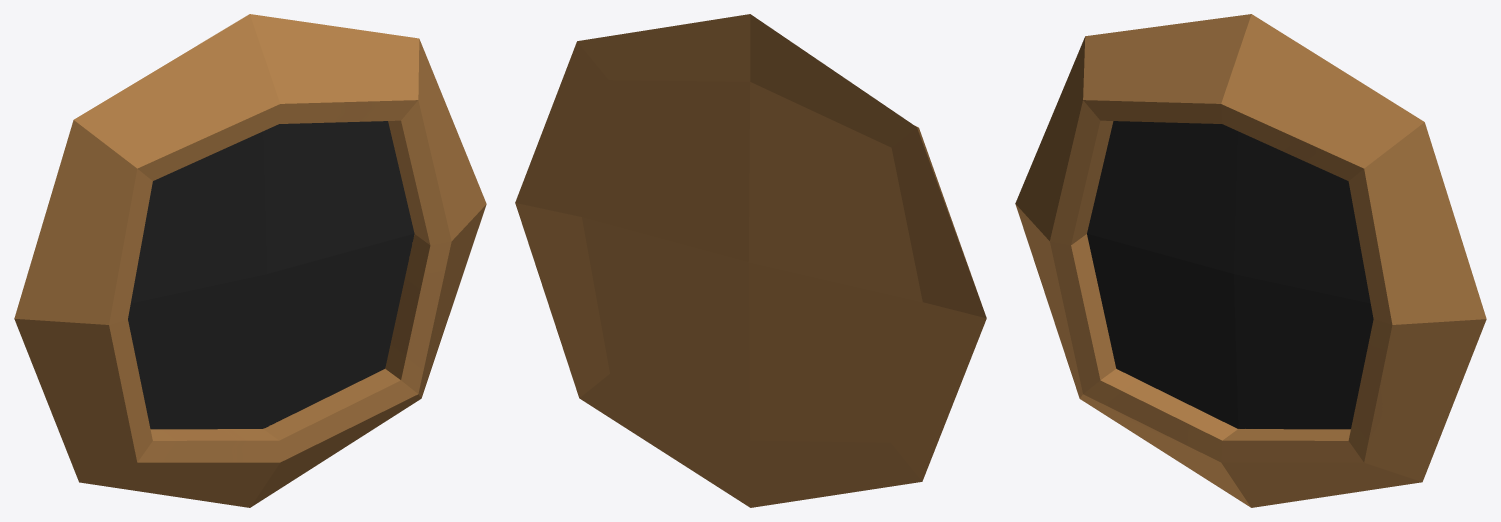
File: entrada.obj
3 renders of one model, left to right at view 1: azimuth 30°, elevation 25°; view 2: azimuth 150°, elevation 25°; view 3: azimuth 330°, elevation 25°, orthographic.
Visible parts, largest first — view 1: Cube_Cube.001; view 2: Cube_Cube.001; view 3: Cube_Cube.001.
Boxes of the visible parts, box(x1,y1,x2,y2) form: Cube_Cube.001: box(14, 14, 486, 507); Cube_Cube.001: box(515, 14, 986, 507); Cube_Cube.001: box(1015, 14, 1486, 507).
Bounding box in the file's own units: 20.34 × 20.34 × 2.65.
1 material, 1 textured.
